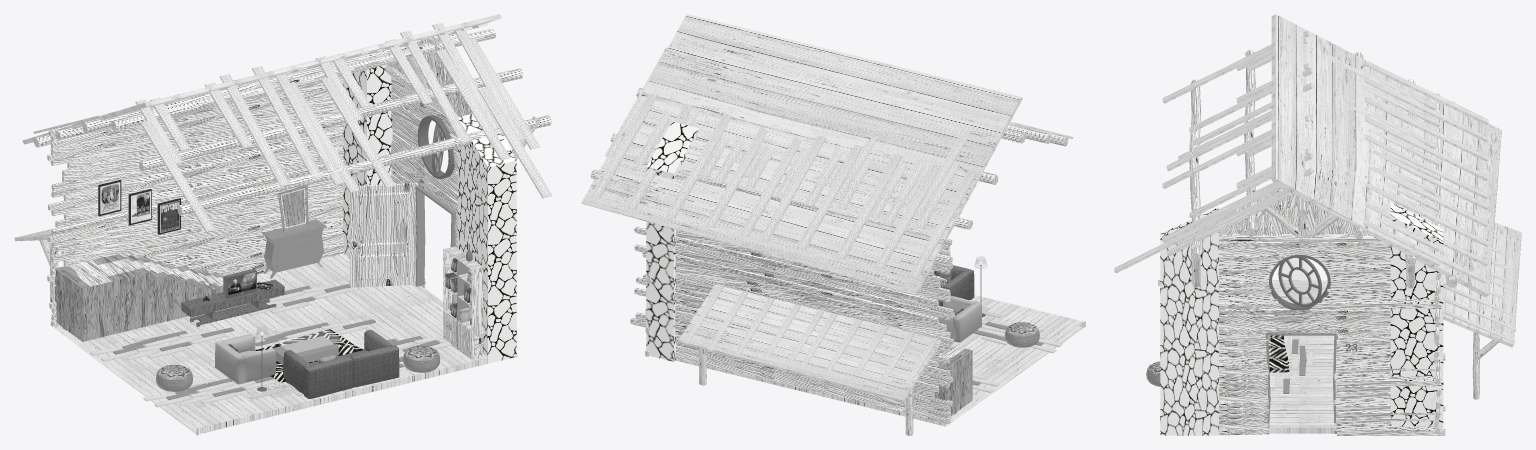
3 views of the same model, side by side, from view 1: azimuth 30°, elevation 25°; view 2: azimuth 150°, elevation 25°; view 3: azimuth 270°, elevation 25° (orthographic). The views are drawn at different scales.
Visible parts, largest first — view 1: Line007_Wood roof 02_0, Box605_Wood 01_0, Box683_Material #39_0, Box614_Wood 01_0, Box691_01 - Default_0, Box818_03 - Default_0, Box682_Material #39_0, Cylinder218_Wood 01_0, Box550_Wood roof 02_0, Cylinder217_Wood 01_0, Cylinder216_Wood 01_0, Box804_14 - Default_0 (+38 smaller); view 2: Box550_Wood roof 02_0, Box605_Wood 01_0, Box636_Wood roof 02_0, Line007_Wood roof 02_0, Box614_Wood 01_0, Box682_Material #39_0, Box691_01 - Default_0, Object081_mb12_0, Box587_Wood roof_0, Box586_Wood roof_0, Box552_Wood roof_0, Box595_Wood roof_0 (+18 smaller); view 3: Box550_Wood roof 02_0, Box611_Wood 01_0, Box683_Material #39_0, Box615_Wood 01_0, Box682_Material #39_0, Line007_Wood roof 02_0, Box636_Wood roof 02_0, Box689_Wood 01_0, Cylinder218_Wood 01_0, Cylinder207_Wood 01_0, Glas_21 - Default_0, Circle004 (+32 smaller).
Boxes of the visible parts, left/top/right/bottom form: Line007_Wood roof 02_0: left=54, top=253, right=509, bottom=435; Box605_Wood 01_0: left=48, top=76, right=344, bottom=252; Box683_Material #39_0: left=457, top=114, right=516, bottom=363; Box614_Wood 01_0: left=48, top=184, right=343, bottom=326; Box691_01 - Default_0: left=55, top=254, right=224, bottom=341; Box818_03 - Default_0: left=349, top=182, right=417, bottom=287; Box682_Material #39_0: left=342, top=64, right=393, bottom=257; Cylinder218_Wood 01_0: left=179, top=115, right=551, bottom=214; Box550_Wood roof 02_0: left=22, top=14, right=501, bottom=144; Cylinder217_Wood 01_0: left=141, top=68, right=523, bottom=170; Cylinder216_Wood 01_0: left=112, top=29, right=496, bottom=130; Box804_14 - Default_0: left=262, top=219, right=326, bottom=278; Box550_Wood roof 02_0: left=581, top=14, right=1022, bottom=295; Box605_Wood 01_0: left=634, top=172, right=953, bottom=353; Box636_Wood roof 02_0: left=678, top=284, right=941, bottom=402; Line007_Wood roof 02_0: left=675, top=295, right=1085, bottom=426; Box614_Wood 01_0: left=630, top=277, right=952, bottom=423; Box682_Material #39_0: left=646, top=121, right=699, bottom=361; Box691_01 - Default_0: left=816, top=348, right=972, bottom=417; Object081_mb12_0: left=938, top=295, right=981, bottom=342; Box587_Wood roof_0: left=909, top=172, right=975, bottom=277; Box586_Wood roof_0: left=759, top=135, right=826, bottom=240; Box552_Wood roof_0: left=591, top=93, right=657, bottom=198; Box595_Wood roof_0: left=835, top=154, right=902, bottom=259; Box550_Wood roof 02_0: left=1271, top=14, right=1501, bottom=297; Box611_Wood 01_0: left=1219, top=314, right=1445, bottom=435; Box683_Material #39_0: left=1160, top=207, right=1218, bottom=435; Box615_Wood 01_0: left=1219, top=241, right=1445, bottom=315; Box682_Material #39_0: left=1390, top=202, right=1443, bottom=430; Line007_Wood roof 02_0: left=1158, top=280, right=1336, bottom=433; Box636_Wood roof 02_0: left=1443, top=222, right=1521, bottom=347; Box689_Wood 01_0: left=1219, top=188, right=1382, bottom=235; Cylinder218_Wood 01_0: left=1189, top=79, right=1201, bottom=255; Cylinder207_Wood 01_0: left=1219, top=232, right=1381, bottom=241; Glas_21 - Default_0: left=1281, top=258, right=1318, bottom=304; Circle004: left=1278, top=257, right=1321, bottom=307.
Size of the model in its own units: 733 by 531 by 706.
39 materials, 26 textured.
